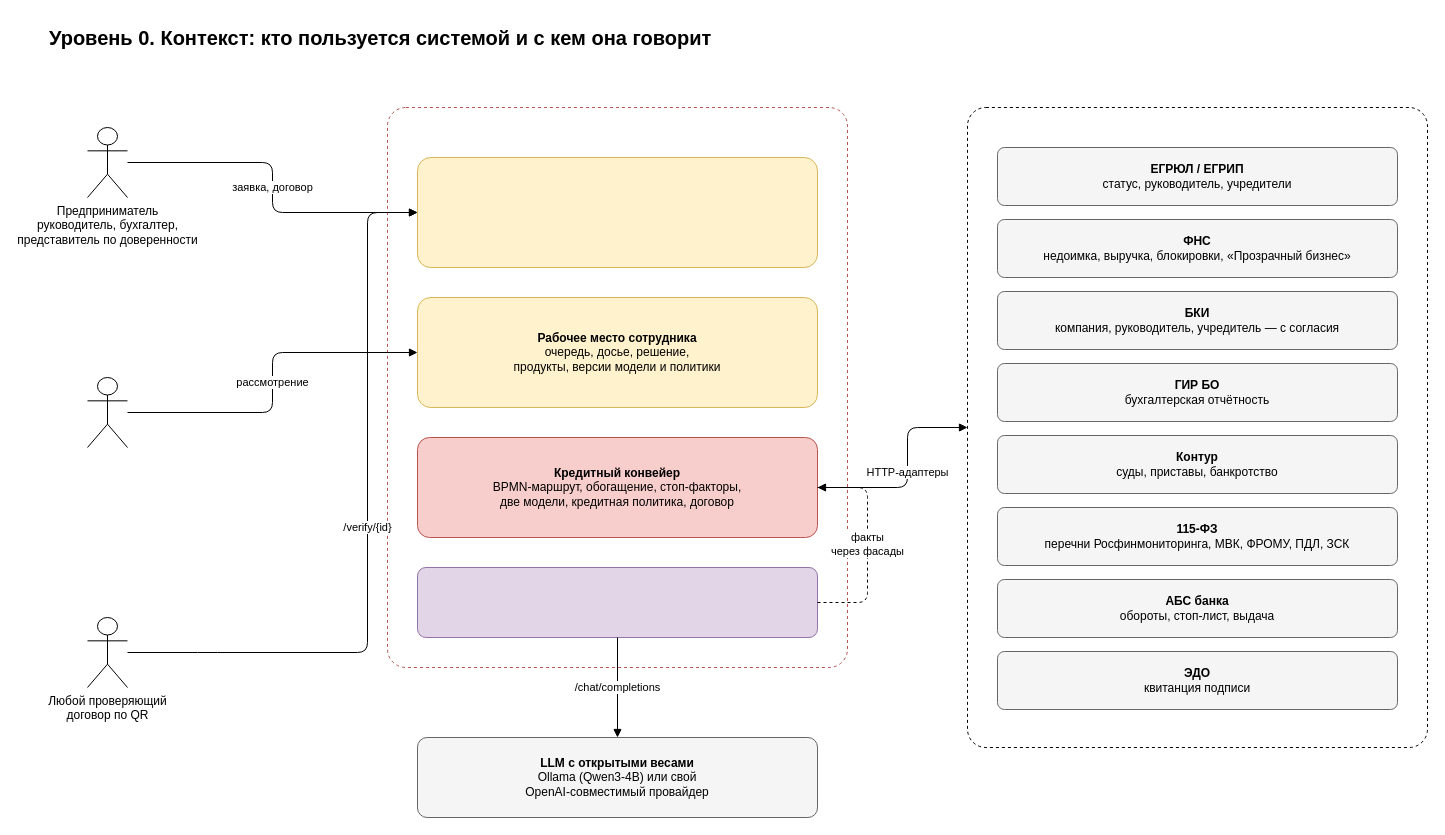
The diagram is 1445 pixels wide and 835 high, and some of its shapes have lost their labels. Each missing label, with the box of its shape:
Внешние системы — смоделированы в external-mocks: (966, 106, 1428, 748)
Кредитный кабинет МСП: (386, 106, 848, 668)
Сайт и кабинет клиента подбор, предодобрение, заявка, статус, договор, поддержка: (416, 156, 818, 268)
Сотрудник банка андеррайтер, администратор: (86, 376, 128, 448)
Умный помощник модуль assistant: чат в кабинете, модель по желанию: (416, 566, 818, 638)
